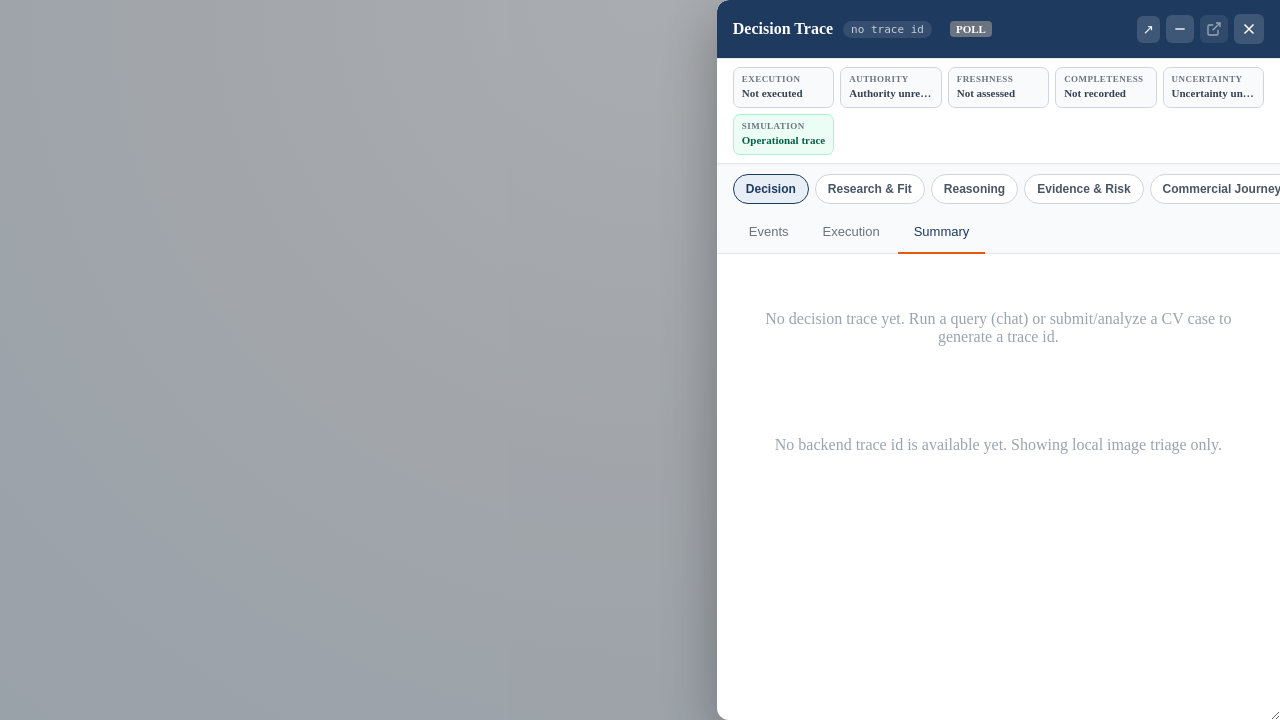
Test: Decision Trace rendered navigation › keeps trust cues persistent while progressively disclosing specialist panels
Expected: the element with test id "trace-trust-strip" is shown, [717,59,1279,164]
Click the button "Evidence & Risk": click(1084, 189) [1024,174,1144,204]
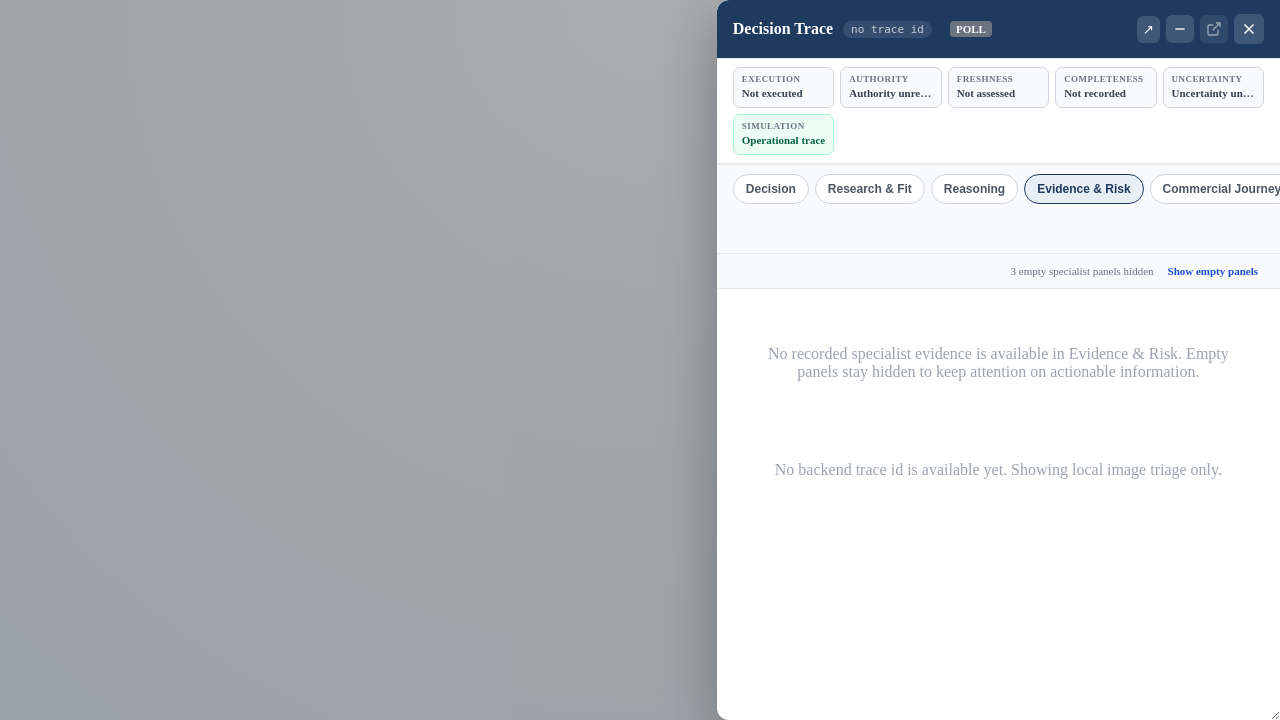
Click the button "Show empty panels": click(1213, 271) [1162,264,1264,278]
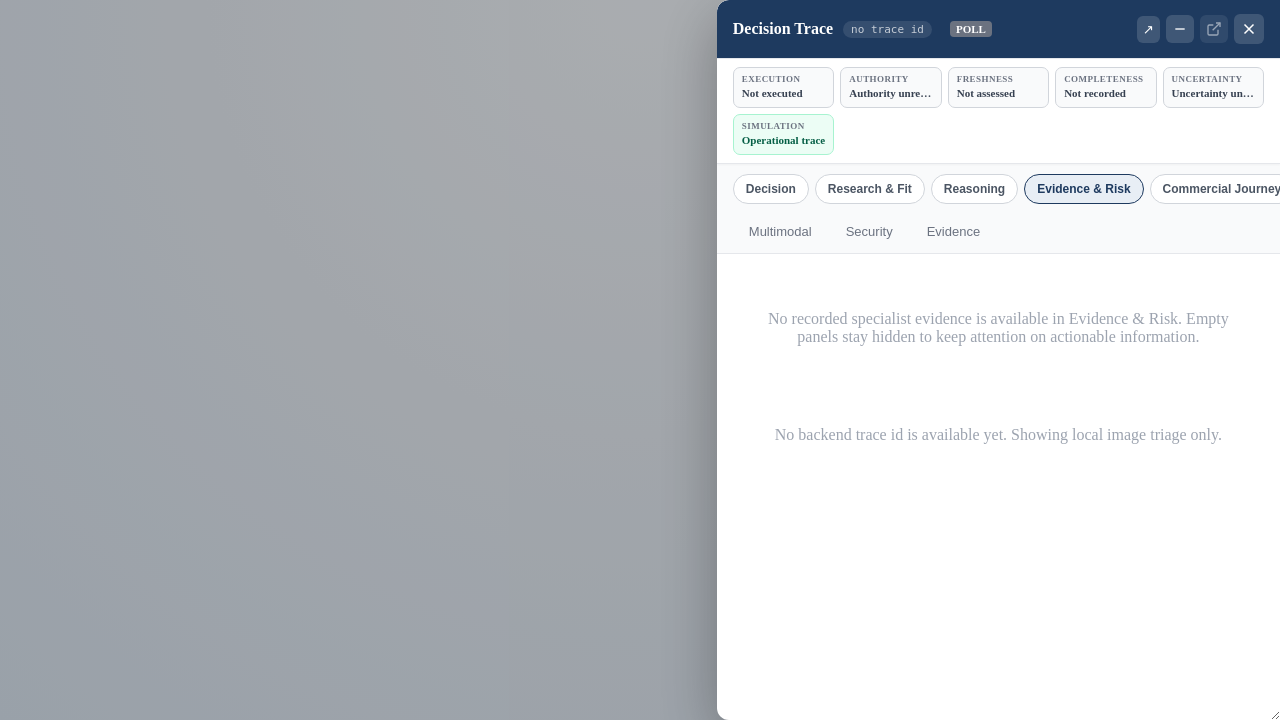
Result: the tab with test id "trace-leaf-evidence" is shown at [911,210,996,254]
